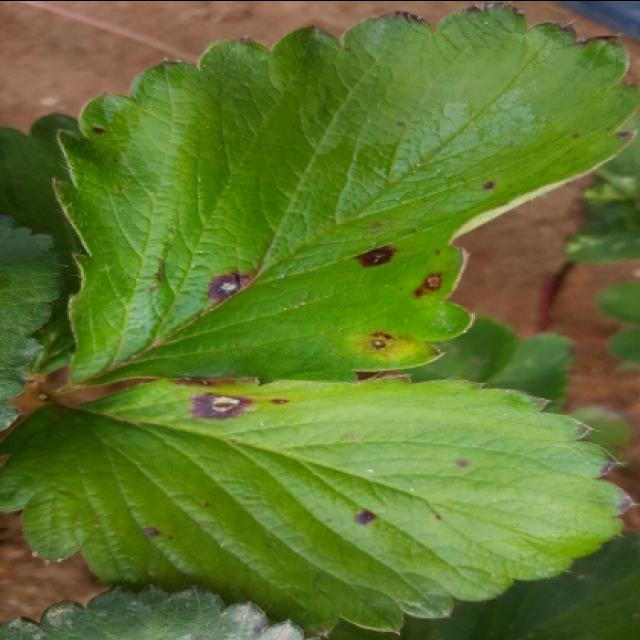Leaf Spot: (51, 2, 638, 389), (0, 372, 635, 635)
